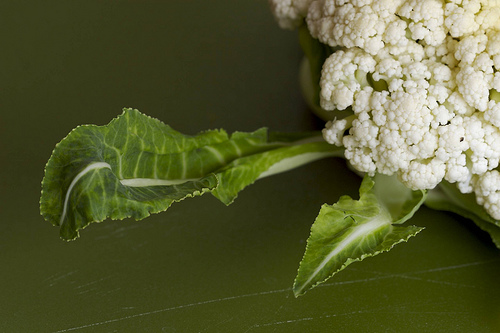cauliflower: (270, 0, 499, 220)
